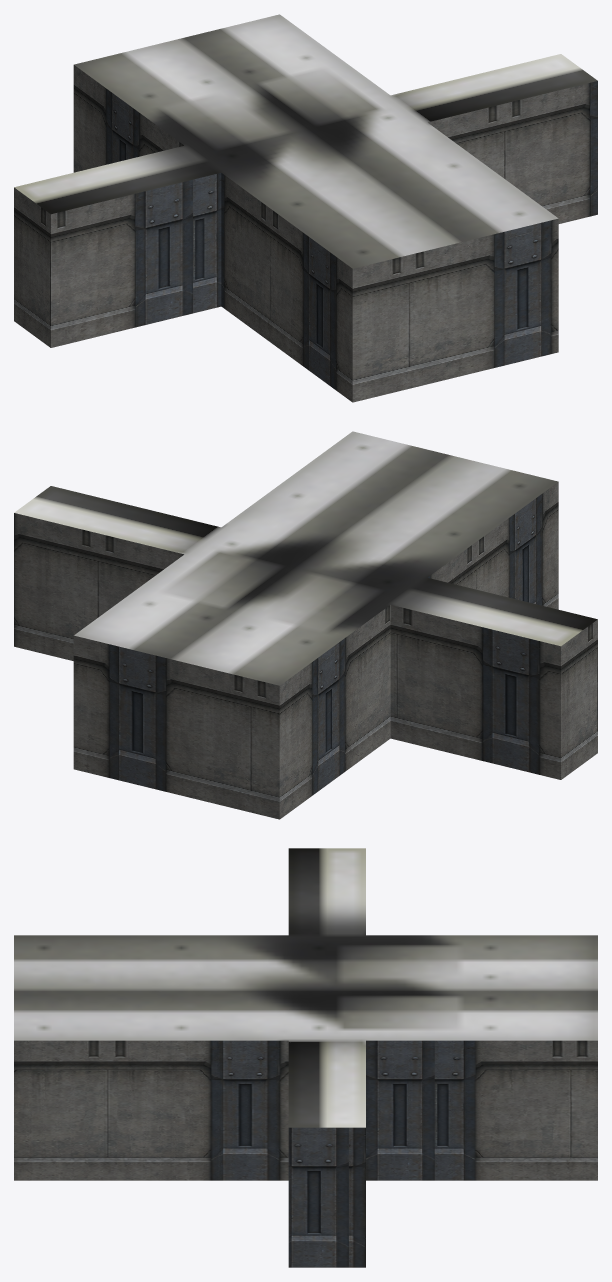
The model's file is BuildingSystem-03-Advance-03-Heavy-3-44-01.glb.
The picture shows the model from 3 angles, top to bottom: view 1: azimuth 30°, elevation 25°; view 2: azimuth 150°, elevation 25°; view 3: azimuth 270°, elevation 25°; orthographic projection. The views are drawn at different scales.
Visible parts, largest first — view 1: buildings/saxarba/SMV_Buildings/BuildingSystem-03-Advance-03; view 2: buildings/saxarba/SMV_Buildings/BuildingSystem-03-Advance-03; view 3: buildings/saxarba/SMV_Buildings/BuildingSystem-03-Advance-03.
Part boxes in pixels (left/top/right/bottom): buildings/saxarba/SMV_Buildings/BuildingSystem-03-Advance-03: left=14, top=14, right=597, bottom=402; buildings/saxarba/SMV_Buildings/BuildingSystem-03-Advance-03: left=14, top=431, right=597, bottom=819; buildings/saxarba/SMV_Buildings/BuildingSystem-03-Advance-03: left=14, top=848, right=597, bottom=1267.
Bounding box in the file's own units: 77 × 18 × 68.
